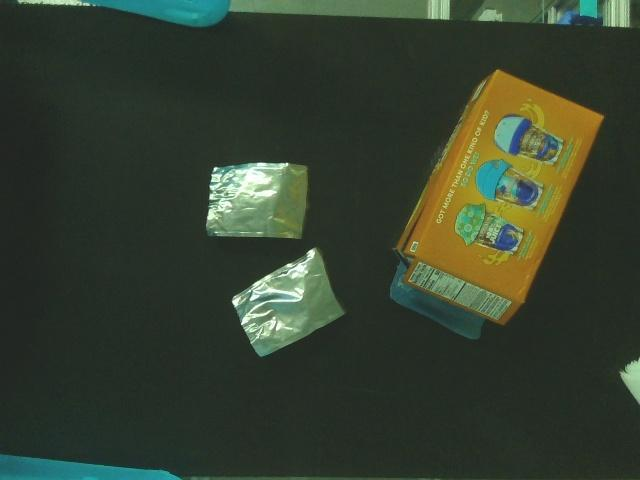cardboard: (386, 66, 609, 344)
plastic: (228, 244, 352, 361), (204, 158, 314, 243), (616, 349, 640, 412)
